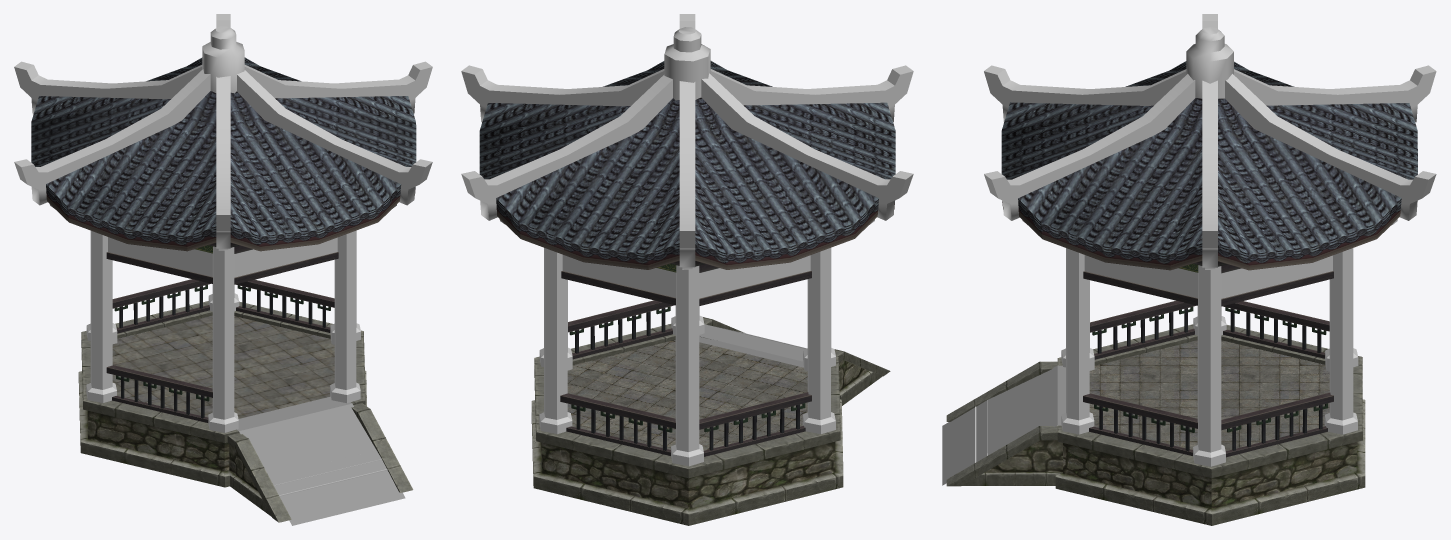
The model's file is JiaYeSi_TingZi_1.FBX.
The picture shows the model from 3 angles, left to right: view 1: azimuth 30°, elevation 25°; view 2: azimuth 150°, elevation 25°; view 3: azimuth 270°, elevation 25°; orthographic projection. The views are drawn at different scales.
Parts seen in each view (by area): view 1: JiaYeSi_TingZi_1c, JiaYeSi_TingZi_1b, JiaYeSi_TingZi_1f, JiaYeSi_TingZi_1e, JiaYeSi_TingZi_1g, JiaYeSi_TingZi_1_Xzm, JiaYeSi_TingZi_1d, JiaYeSi_TingZi_1a; view 2: JiaYeSi_TingZi_1c, JiaYeSi_TingZi_1f, JiaYeSi_TingZi_1b, JiaYeSi_TingZi_1e, JiaYeSi_TingZi_1g, JiaYeSi_TingZi_1d, JiaYeSi_TingZi_1a, JiaYeSi_TingZi_1_Xzm; view 3: JiaYeSi_TingZi_1c, JiaYeSi_TingZi_1f, JiaYeSi_TingZi_1b, JiaYeSi_TingZi_1e, JiaYeSi_TingZi_1g, JiaYeSi_TingZi_1d, JiaYeSi_TingZi_1_Xzm, JiaYeSi_TingZi_1a.
Part boxes in pixels (left/top/right/bottom): JiaYeSi_TingZi_1c: left=31, top=57, right=416, bottom=251; JiaYeSi_TingZi_1b: left=14, top=14, right=432, bottom=248; JiaYeSi_TingZi_1f: left=78, top=301, right=413, bottom=522; JiaYeSi_TingZi_1e: left=49, top=204, right=396, bottom=432; JiaYeSi_TingZi_1g: left=112, top=315, right=334, bottom=418; JiaYeSi_TingZi_1_Xzm: left=118, top=334, right=405, bottom=525; JiaYeSi_TingZi_1d: left=106, top=243, right=338, bottom=422; JiaYeSi_TingZi_1a: left=202, top=26, right=244, bottom=93; JiaYeSi_TingZi_1c: left=479, top=61, right=895, bottom=269; JiaYeSi_TingZi_1f: left=531, top=317, right=890, bottom=525; JiaYeSi_TingZi_1b: left=461, top=14, right=913, bottom=267; JiaYeSi_TingZi_1e: left=499, top=219, right=874, bottom=466; JiaYeSi_TingZi_1g: left=567, top=340, right=807, bottom=450; JiaYeSi_TingZi_1d: left=560, top=261, right=811, bottom=456; JiaYeSi_TingZi_1a: left=664, top=27, right=710, bottom=100; JiaYeSi_TingZi_1_Xzm: left=699, top=324, right=806, bottom=367; JiaYeSi_TingZi_1c: left=1001, top=61, right=1417, bottom=270; JiaYeSi_TingZi_1f: left=946, top=324, right=1365, bottom=525; JiaYeSi_TingZi_1b: left=984, top=14, right=1436, bottom=267; JiaYeSi_TingZi_1e: left=1022, top=219, right=1397, bottom=466; JiaYeSi_TingZi_1g: left=1089, top=340, right=1329, bottom=450; JiaYeSi_TingZi_1d: left=1083, top=261, right=1333, bottom=457; JiaYeSi_TingZi_1_Xzm: left=942, top=357, right=1321, bottom=485; JiaYeSi_TingZi_1a: left=1186, top=27, right=1233, bottom=98.
Bounding box in the file's own units: 1775 × 1617 × 1707.
